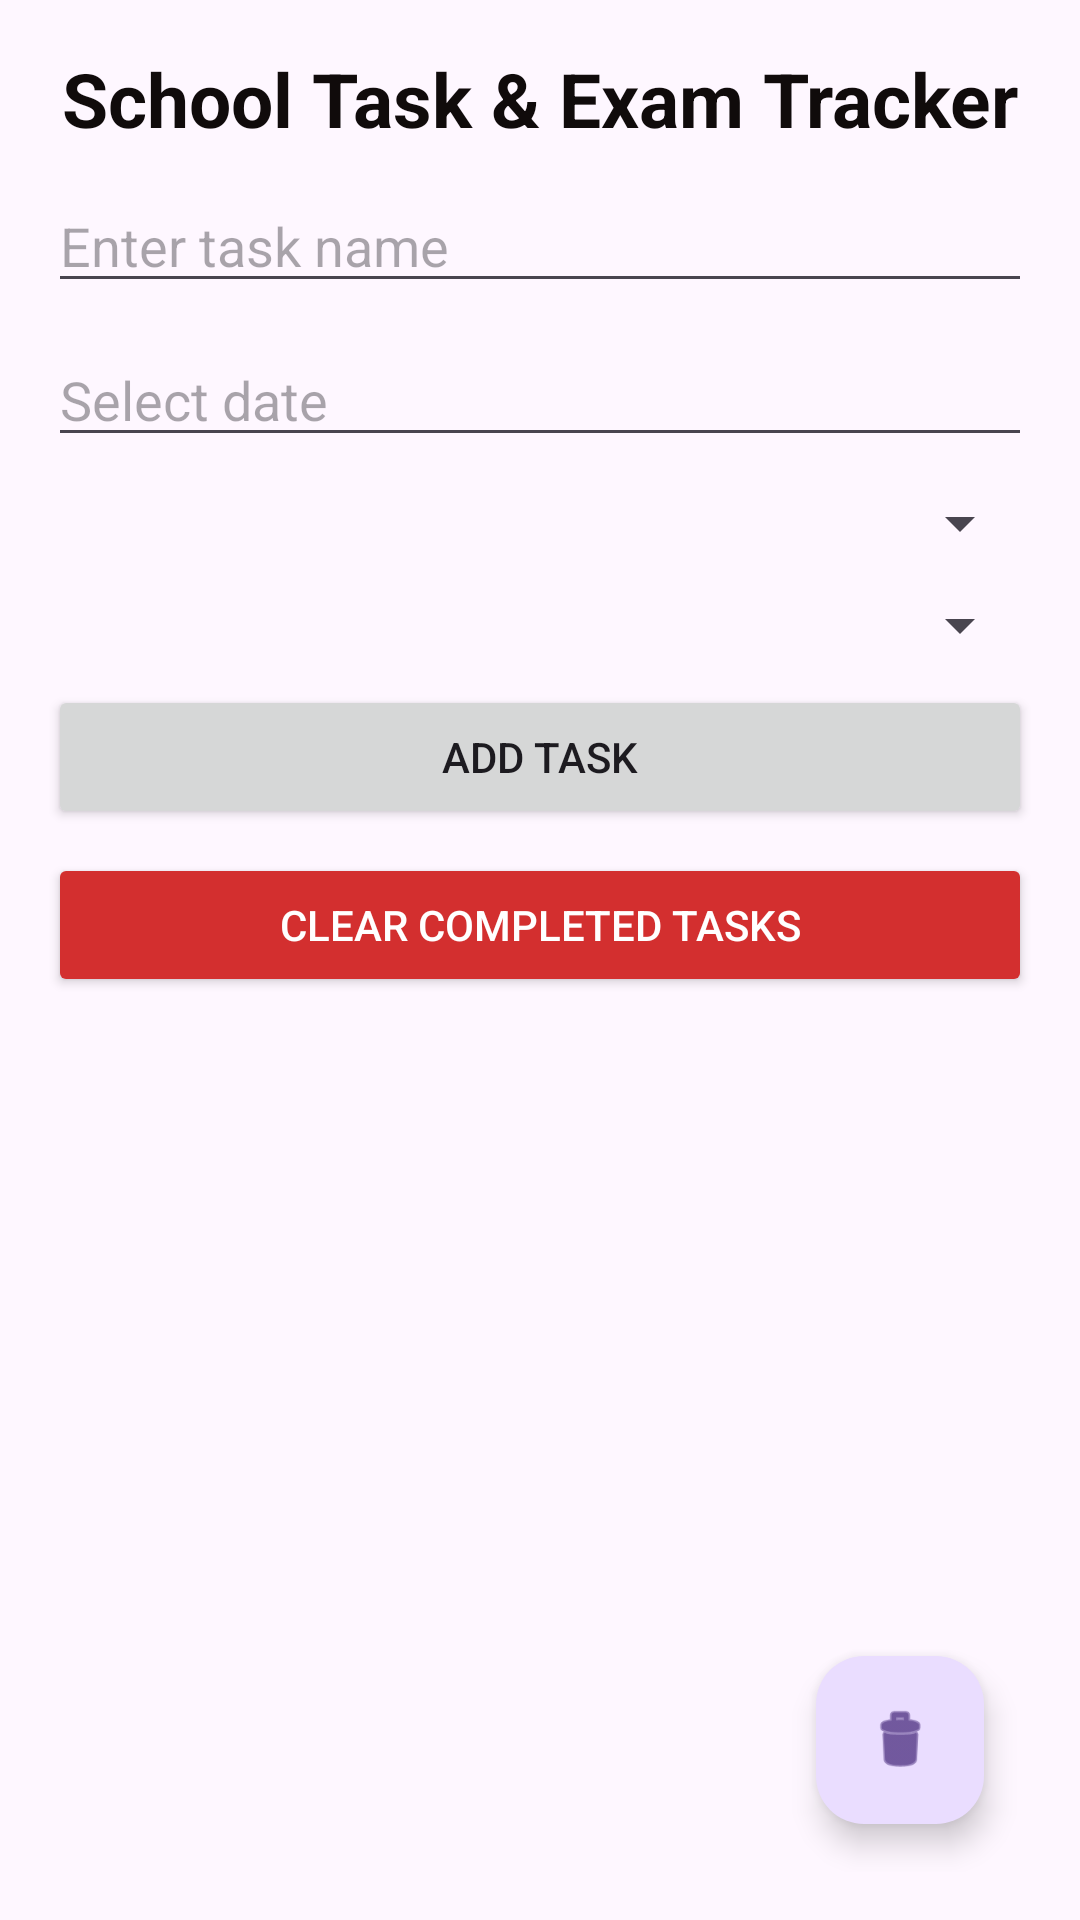

Screen size 1080 × 1920. Icon name, then its box in pixels as box=[x1, y1, x2, y2]:
Recycle Bin: box=[816, 1656, 984, 1824]
